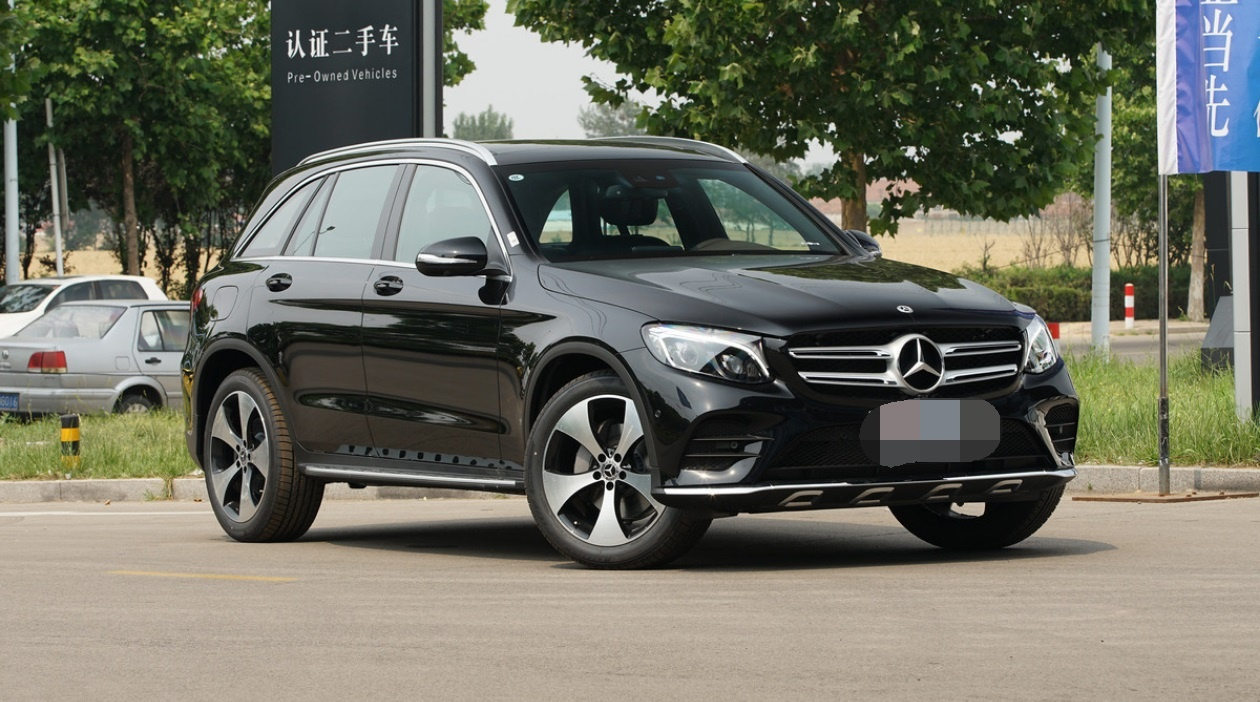SUV: (191, 132, 1066, 573)
family sedan: (8, 302, 208, 418)
